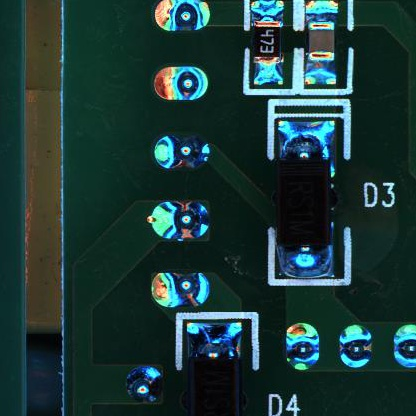spot: (147, 200, 212, 241), (151, 271, 214, 310), (155, 134, 211, 170), (152, 66, 210, 100), (151, 1, 212, 31), (285, 322, 319, 373), (123, 365, 163, 406), (338, 323, 373, 369), (393, 322, 416, 371)
